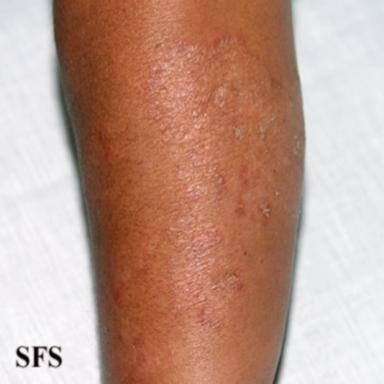Tinea-Corporis: (144, 30, 305, 332)
